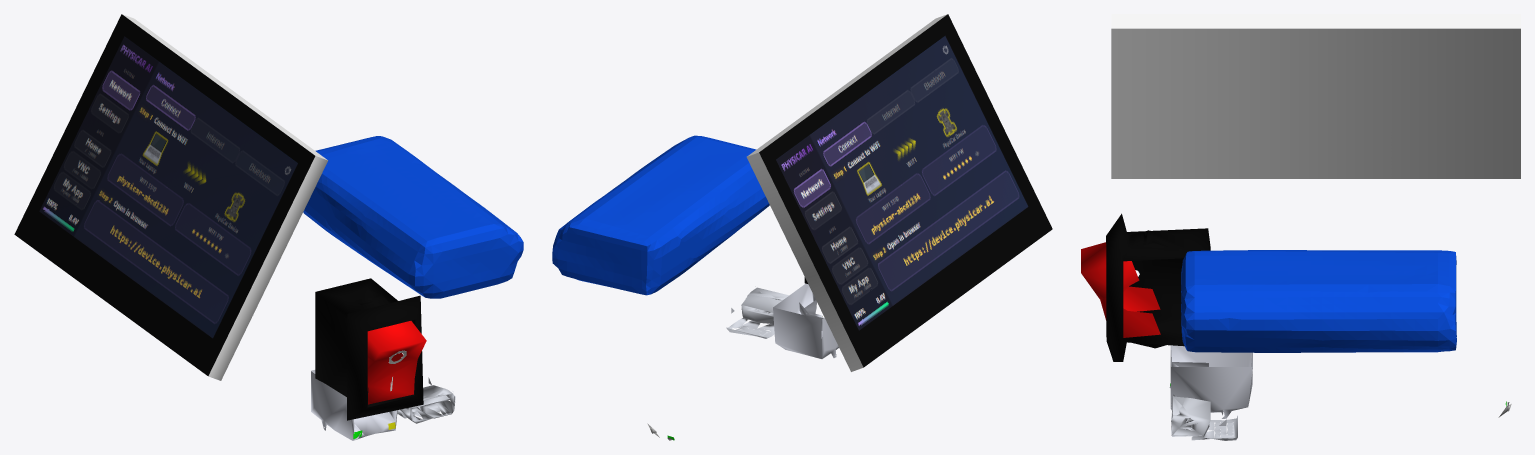
The model's file is Body_details.dae.
3 views of the same model, side by side, from view 1: azimuth 30°, elevation 25°; view 2: azimuth 150°, elevation 25°; view 3: azimuth 270°, elevation 25° (orthographic). The views are drawn at different scales.
Visible parts, largest first — view 1: display, 2S 7,4V 1500 mAh Battery, Power switch.002, Raspberry pi 5; view 2: display, 2S 7,4V 1500 mAh Battery, Raspberry pi 5; view 3: display, 2S 7,4V 1500 mAh Battery, Power switch.002, Raspberry pi 5.
Boxes of the visible parts, bbox=[...] form: display: bbox=[14, 14, 328, 380]; 2S 7,4V 1500 mAh Battery: bbox=[303, 136, 523, 298]; Power switch.002: bbox=[315, 278, 426, 420]; Raspberry pi 5: bbox=[253, 315, 455, 440]; display: bbox=[746, 14, 1052, 371]; 2S 7,4V 1500 mAh Battery: bbox=[552, 135, 769, 295]; Raspberry pi 5: bbox=[647, 283, 838, 440]; display: bbox=[1111, 14, 1520, 178]; 2S 7,4V 1500 mAh Battery: bbox=[1181, 250, 1456, 352]; Power switch.002: bbox=[1081, 213, 1210, 361]; Raspberry pi 5: bbox=[1169, 345, 1511, 440].
Size of the model in its own units: 0.1119 by 0.1139 by 0.0992.
Materials: 13 (1 with a texture image).
